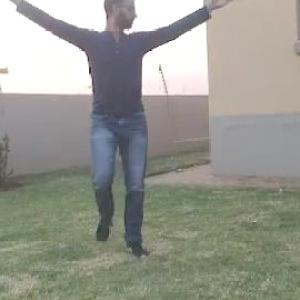takeoff: (1, 0, 247, 291)
